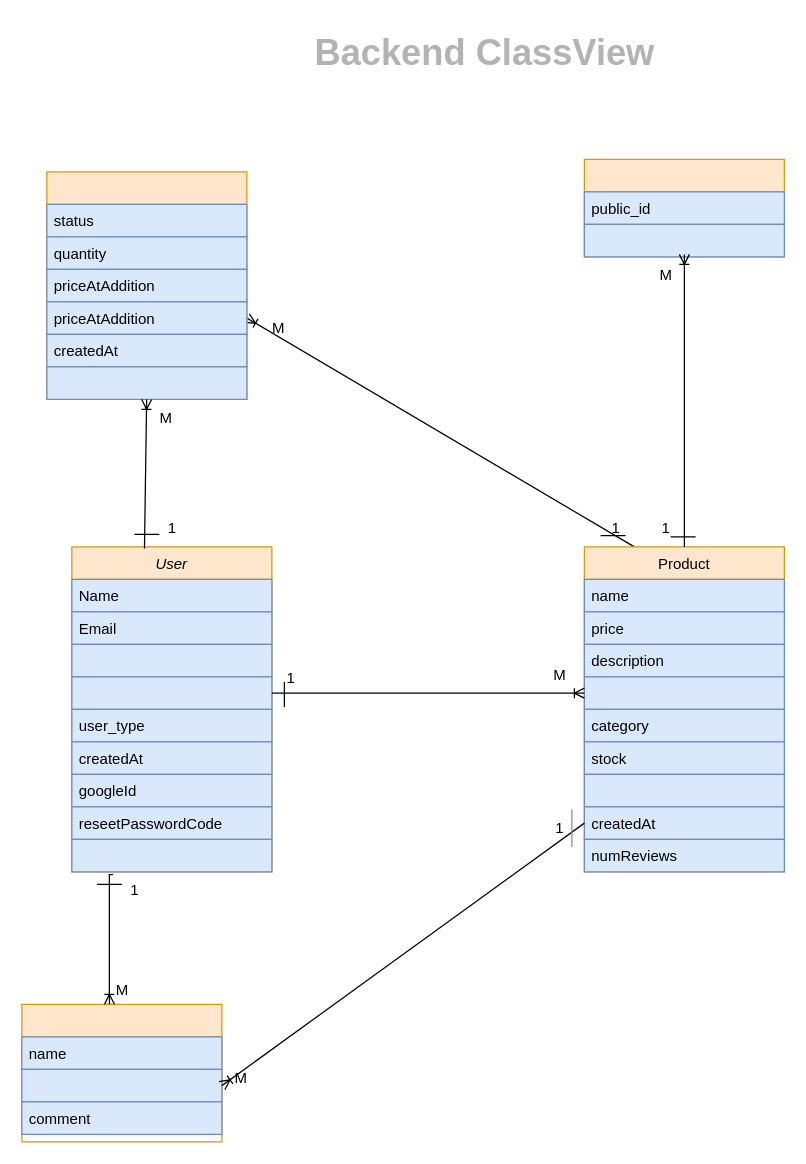
Image size: 806x1164. Some labels were removed from this diagram. The shapes that lost their labels are listed below. From the top down, each one's box as (x1, y1, x2, y2) in pixels, then its label:
(583, 158, 784, 257): Image
(583, 223, 784, 257): url
(46, 171, 247, 399): Cart
(46, 366, 247, 399): updatedAt
(71, 643, 272, 677): Password
(71, 676, 272, 709): Address
(583, 676, 784, 709): ratings
(583, 773, 784, 807): location
(71, 838, 272, 872): resetPasswordExpires
(21, 1003, 222, 1142): Review
(21, 1068, 222, 1102): rating
